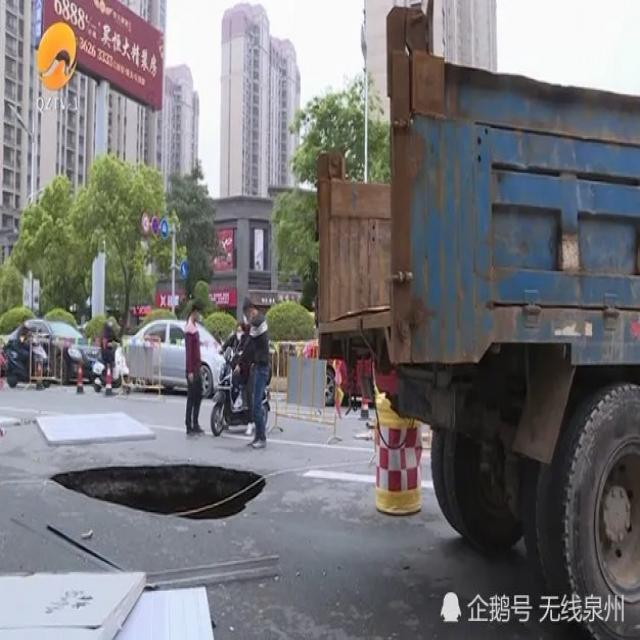Pothole: (46, 458, 270, 527)
